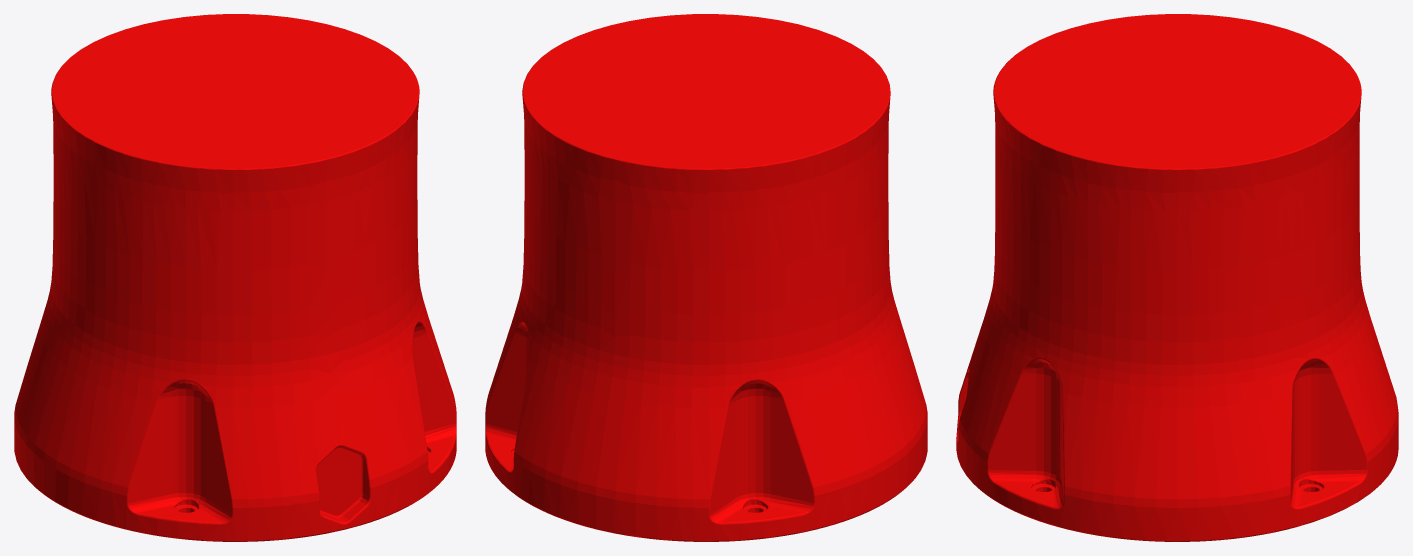
The picture shows the model from 3 angles, left to right: view 1: azimuth 30°, elevation 25°; view 2: azimuth 150°, elevation 25°; view 3: azimuth 270°, elevation 25°; orthographic projection.
Parts seen in each view (by area): view 1: H2017_0_0; view 2: H2017_0_0; view 3: H2017_0_0.
Boxes of the visible parts, x1,y1,x2,y2 form: H2017_0_0: (14,14,456,541); H2017_0_0: (485,14,927,541); H2017_0_0: (956,14,1398,541).
Bounding box in the file's own units: 248 × 248 × 221.
